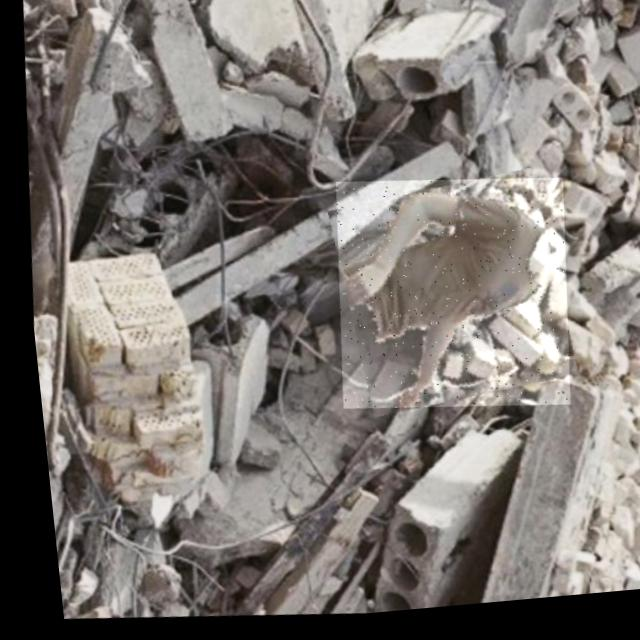Person in Rubble: (314, 172, 575, 430)
